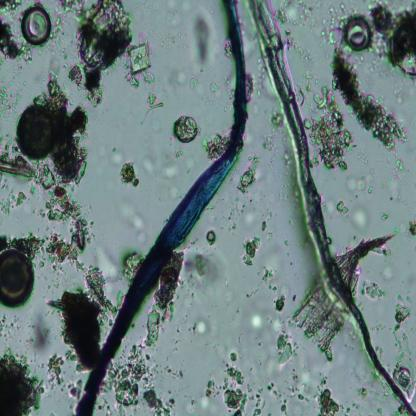Background material: (285, 228, 397, 361), (334, 52, 406, 150), (72, 3, 132, 101), (45, 74, 89, 184), (112, 346, 174, 414), (308, 89, 354, 177), (51, 296, 102, 374), (370, 3, 416, 82), (282, 0, 342, 60), (46, 184, 89, 264), (0, 352, 43, 414), (212, 349, 246, 414), (26, 229, 62, 287), (40, 356, 84, 401), (185, 240, 219, 296), (329, 194, 374, 235), (156, 251, 186, 311), (158, 54, 204, 91), (344, 151, 381, 195), (27, 308, 57, 360), (137, 86, 172, 130), (86, 265, 118, 312), (116, 198, 149, 243), (189, 9, 215, 66), (147, 150, 179, 194), (261, 378, 297, 410), (118, 154, 144, 192), (0, 13, 20, 62), (188, 380, 218, 412), (129, 41, 155, 76), (383, 148, 405, 189), (237, 159, 260, 198), (316, 383, 340, 414), (248, 307, 272, 338), (202, 74, 225, 106), (0, 78, 18, 116), (272, 333, 294, 364), (241, 236, 262, 268), (258, 206, 276, 240), (225, 200, 242, 236), (124, 253, 142, 287), (362, 276, 385, 302), (144, 314, 161, 349), (190, 314, 209, 345), (207, 132, 228, 160), (57, 6, 72, 41), (268, 264, 284, 296), (395, 300, 412, 329), (2, 202, 27, 218), (264, 136, 277, 164), (271, 109, 284, 128), (275, 293, 286, 314), (0, 0, 20, 10), (379, 211, 391, 224), (207, 231, 215, 247)
Cellulose filter fibre: (247, 1, 416, 412)
Cotton: (72, 2, 247, 413)
Diatom: (14, 101, 58, 164), (0, 250, 36, 308), (20, 1, 54, 48), (344, 13, 372, 55), (0, 150, 35, 180), (175, 114, 202, 144), (394, 363, 415, 390)
Easylift tab: (404, 219, 416, 242)
